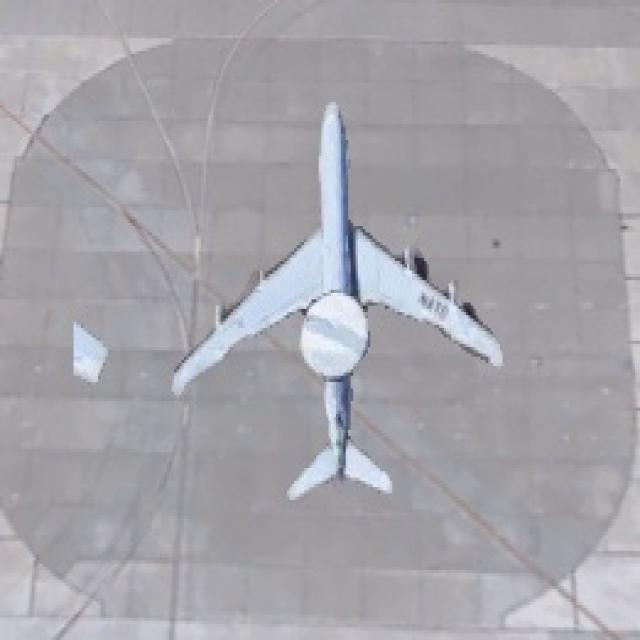E-3_TopDown: (167, 95, 505, 500)
